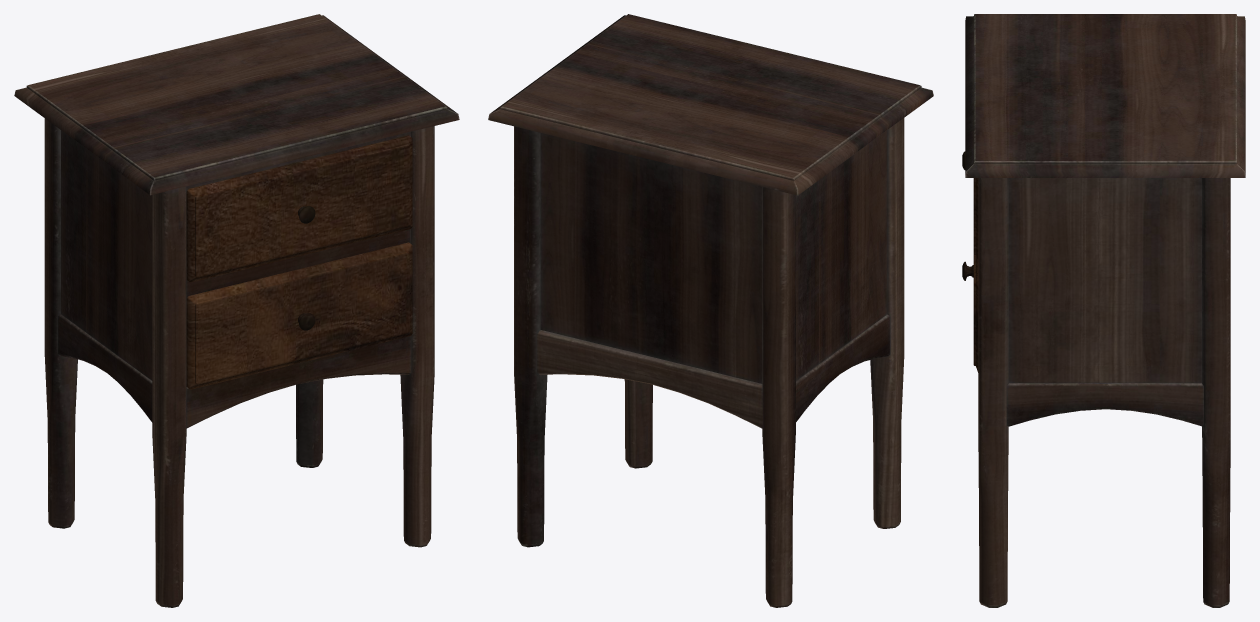
The model's file is small table.glb.
The picture shows the model from 3 angles, left to right: view 1: azimuth 30°, elevation 25°; view 2: azimuth 150°, elevation 25°; view 3: azimuth 270°, elevation 25°; orthographic projection. The views are drawn at different scales.
Visible parts, largest first — view 1: DecTable, Drawer2, Drawer1; view 2: DecTable; view 3: DecTable, Drawer1, Drawer2.
Part boxes in pixels (left/top/right/bottom): DecTable: left=14, top=14, right=459, bottom=607; Drawer2: left=186, top=135, right=412, bottom=282; Drawer1: left=186, top=242, right=412, bottom=389; DecTable: left=488, top=14, right=933, bottom=607; DecTable: left=965, top=14, right=1245, bottom=607; Drawer1: left=962, top=255, right=978, bottom=372; Drawer2: left=962, top=151, right=978, bottom=261.
Size of the model in its own units: 1.6 by 2.17 by 1.23.
2 materials, 2 textured.
